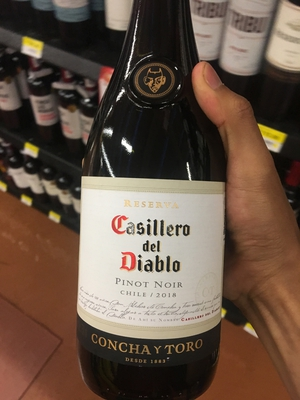casillero del diablo pinot noir: (70, 8, 257, 399)
